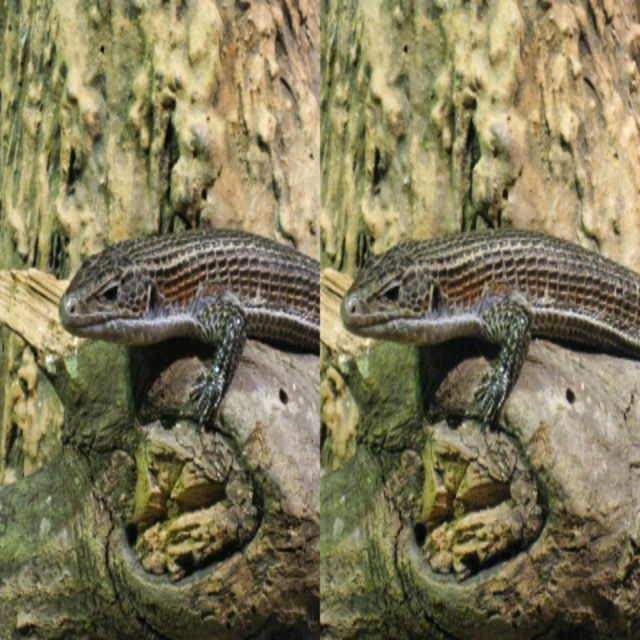Lizard: (334, 226, 640, 427), (58, 228, 320, 427)
